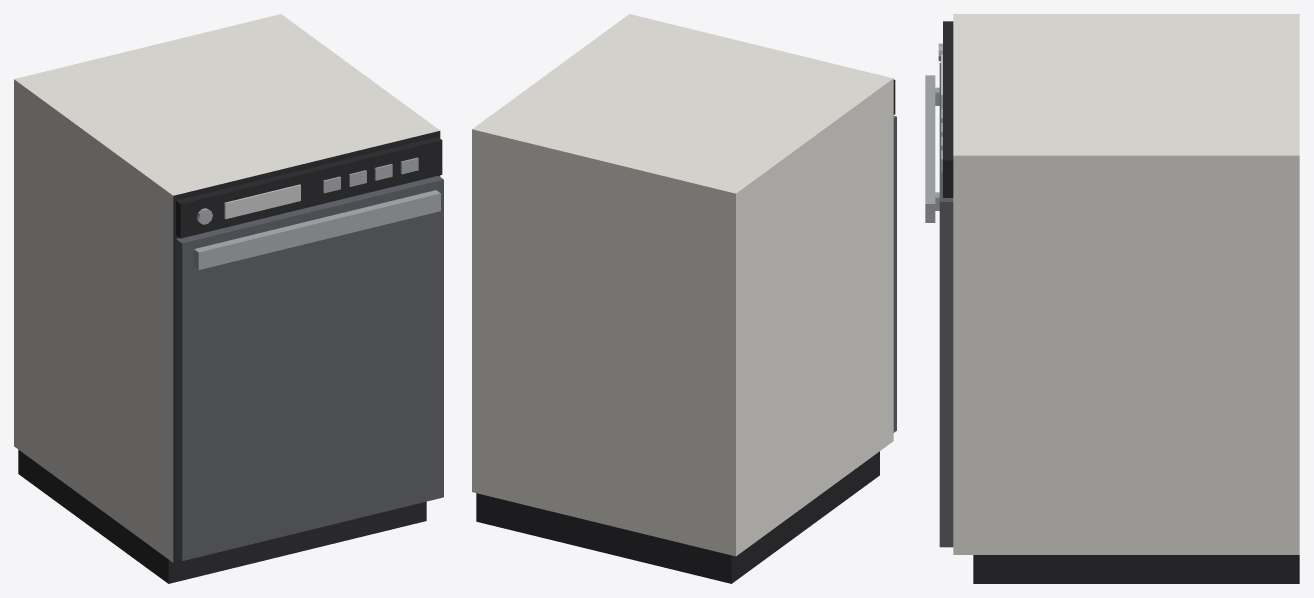
The model's file is FN_Appliance_Dishwasher.obj.
3 renders of one model, left to right at view 1: azimuth 30°, elevation 25°; view 2: azimuth 150°, elevation 25°; view 3: azimuth 270°, elevation 25°, orthographic. The views are drawn at different scales.
Parts seen in each view (by area): view 1: FN_Appliance_Dishwasher; view 2: FN_Appliance_Dishwasher; view 3: FN_Appliance_Dishwasher.
Boxes of the visible parts, x1,y1,x2,y2 form: FN_Appliance_Dishwasher: (14,14,443,583); FN_Appliance_Dishwasher: (472,14,896,583); FN_Appliance_Dishwasher: (925,14,1299,583).
Bounding box in the file's own units: 0.6 × 0.85 × 0.67.
2 materials, 1 textured.
